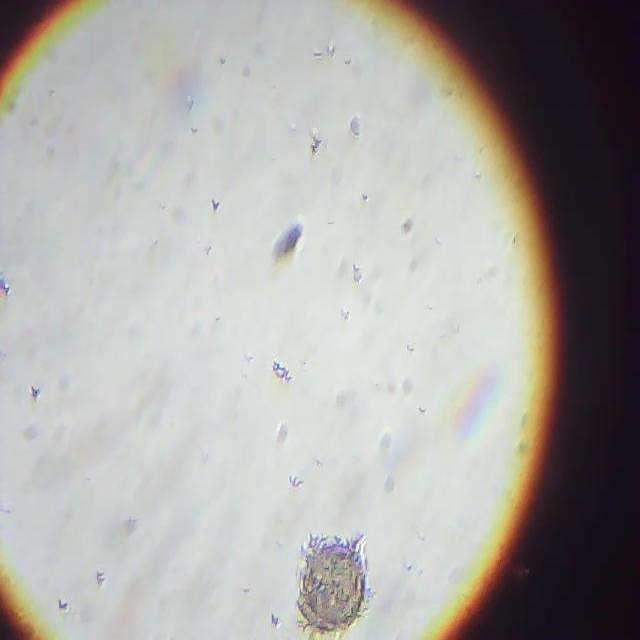alexandrium: (297, 534, 376, 640)
